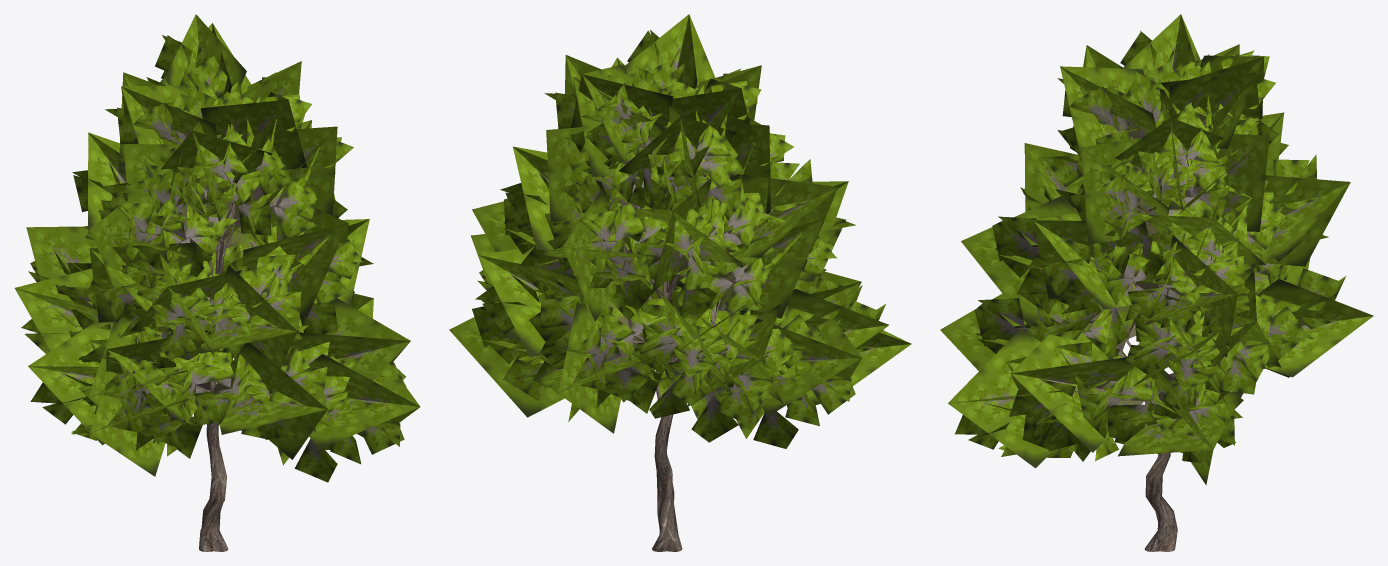
File: Gen02_04Elm01h.fbx
3 views of the same model, side by side, from view 1: azimuth 30°, elevation 25°; view 2: azimuth 150°, elevation 25°; view 3: azimuth 270°, elevation 25° (orthographic). The views are drawn at different scales.
Parts seen in each view (by area): view 1: Tree_1, Tree_2, Tree_0; view 2: Tree_2, Tree_1, Tree_0; view 3: Tree_1, Tree_2, Tree_0.
Part boxes in pixels (left/top/right/bottom): Tree_1: left=14, top=14, right=420, bottom=476; Tree_2: left=21, top=35, right=406, bottom=482; Tree_0: left=137, top=132, right=279, bottom=551; Tree_2: left=472, top=30, right=885, bottom=448; Tree_1: left=449, top=14, right=911, bottom=433; Tree_0: left=596, top=111, right=739, bottom=551; Tree_1: left=940, top=14, right=1373, bottom=485; Tree_2: left=955, top=30, right=1345, bottom=462; Tree_0: left=1016, top=116, right=1212, bottom=551.
Size of the model in its own units: 68.12 by 85.06 by 66.02.
